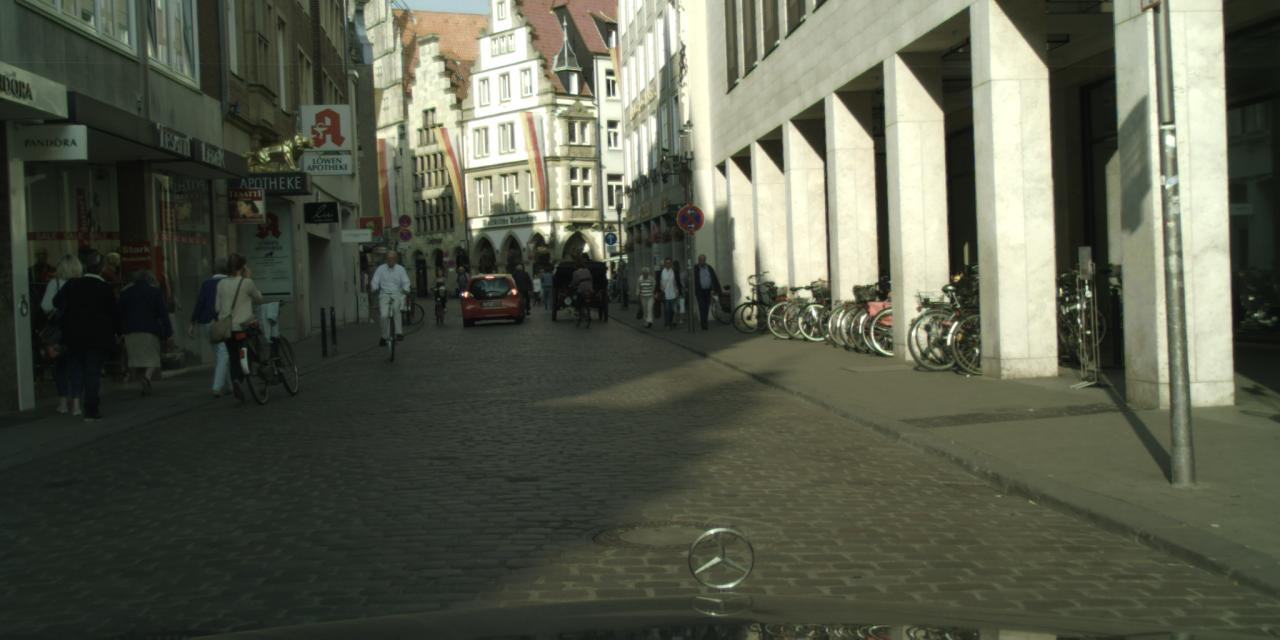ped: (60, 252, 128, 420), (36, 254, 102, 413), (209, 253, 267, 394), (196, 257, 252, 393), (120, 271, 170, 394), (373, 250, 410, 341), (688, 254, 718, 329), (653, 256, 683, 330), (652, 260, 677, 323), (664, 260, 688, 322), (634, 266, 658, 328), (571, 261, 591, 311), (613, 263, 631, 309), (538, 267, 556, 312), (512, 264, 530, 308), (431, 269, 448, 314), (486, 270, 501, 306), (454, 266, 469, 302), (530, 272, 542, 306), (536, 269, 548, 300), (472, 268, 483, 298), (464, 272, 473, 297)
